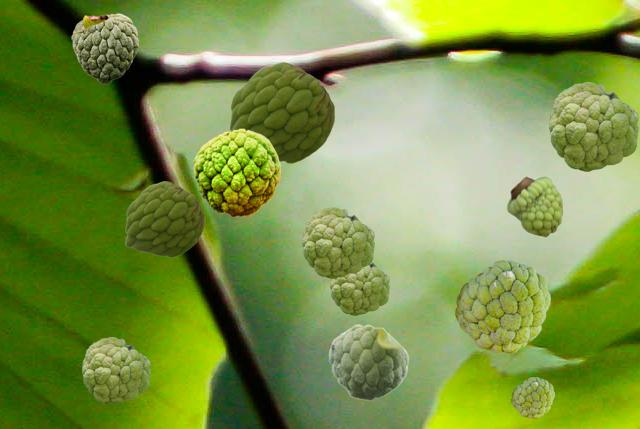atis: (229, 62, 333, 162), (455, 260, 549, 352), (549, 82, 637, 170), (193, 128, 279, 216), (328, 324, 408, 399), (125, 181, 203, 256), (302, 207, 373, 277), (71, 13, 137, 83), (82, 337, 149, 403), (506, 175, 563, 237), (330, 262, 388, 314), (511, 377, 553, 417)
